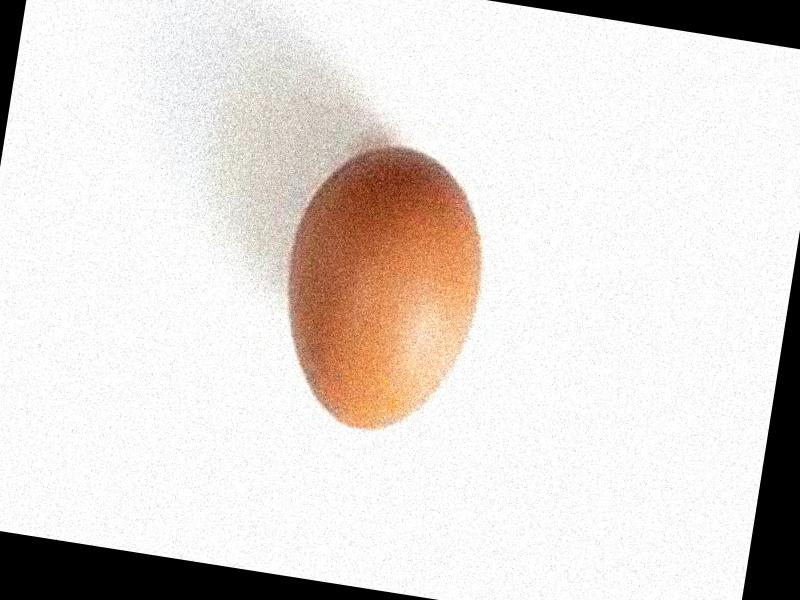Eggs: (267, 134, 495, 445)
